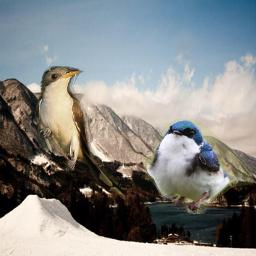Cuckoo: (35, 66, 130, 203)
Swallow: (145, 119, 253, 214)
